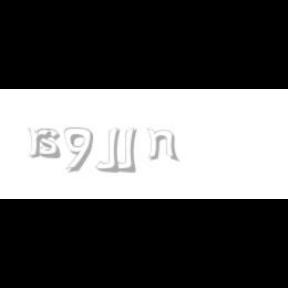9: (65, 128, 94, 172)
J: (94, 128, 120, 172), (112, 128, 136, 172)
n: (146, 128, 180, 162)
r: (28, 128, 54, 158)
s: (37, 128, 65, 160)
